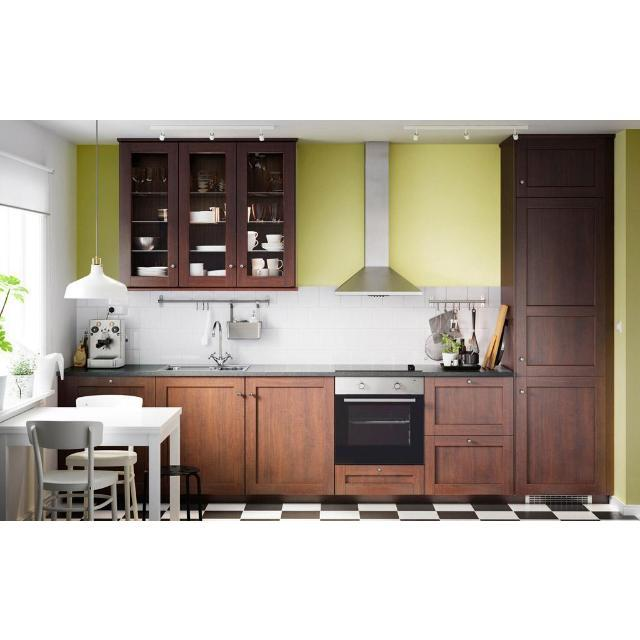chair: (26, 420, 118, 521)
table: (170, 476, 180, 520)
